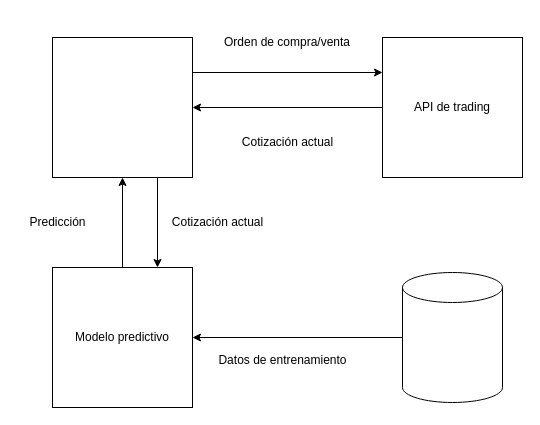
Image size: 540x425. Some labels were removed from this diagram. The shapes that lost their labels are listed below. From the top down, each one's centre as x and y in pixels, then its label:
At (122,107): "Sistema de trading".
At (452,337): "Archivo histórico".
